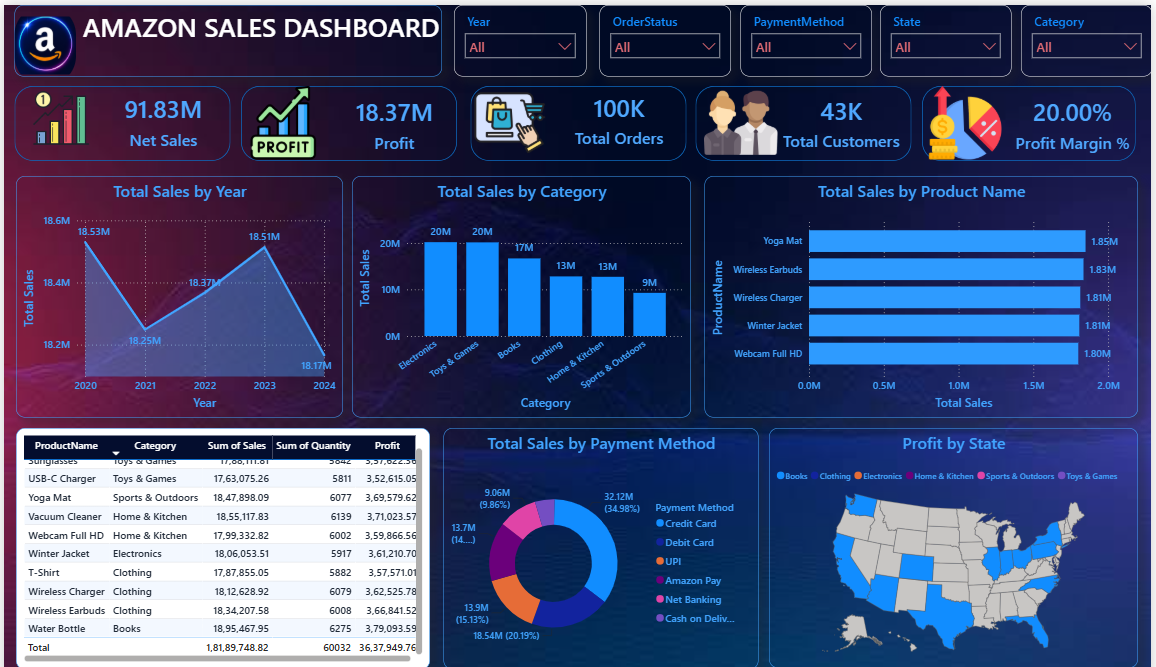

What the dashboard file says about the page in this screenshot:
{"tool":"powerbi","page":{"name":"Amazon Sales Dashboard","canvas":[1530,900],"ordinal":0},"visuals":[{"type":"shape","title":"AMAZON SALES DASHBOARD","box":[14,0,583,95],"z":0,"group":"g1"},{"type":"slicer","fields":{"Values":["DimDate.Year"]},"box":[612,0,170,95],"z":0},{"type":"slicer","fields":{"Values":["DimOrderStatus.OrderStatus"]},"box":[794.5,0,170,95],"z":1000},{"type":"slicer","fields":{"Values":["Products.Category"]},"box":[1342,0,170,95],"z":2000},{"type":"slicer","fields":{"Values":["DimPayment.PaymentMethod"]},"box":[977,0,170,95],"z":3000},{"type":"slicer","fields":{"Values":["Customers.State"]},"box":[1159.5,0,170,95],"z":4000},{"type":"areaChart","title":"Total Sales by Year","fields":{"Category":["DimDate.Year"],"Y":["Orders.Total Sales"]},"box":[16,258,436,322],"z":5000},{"type":"clusteredColumnChart","fields":{"Category":["Products.Category"],"Y":["Orders.Total Sales"]},"box":[476,258,452,322],"z":6000},{"type":"clusteredBarChart","title":"Total Sales by Product Name","fields":{"Category":["Products.ProductName"],"Y":["Orders.Total Sales"]},"box":[952,258,560,322],"z":7000},{"type":"shapeMap","title":"Profit by State","fields":{"Category":["Customers.State"],"Series":["Products.Category"]},"box":[1020,594,492,290],"z":8000},{"type":"tableEx","fields":{"Values":["Products.ProductName","Products.Category","Sum(Orders.Sales)","Sum(Orders.Quantity)","Orders.Profit"]},"box":[16,594,552,292],"z":9000},{"type":"donutChart","title":"Total Sales by Payment Method","fields":{"Category":["DimPayment.PaymentMethod"],"Y":["Orders.Total Sales"]},"box":[584,594,420,292],"z":10000},{"type":"group","id":"g1","title":"Group 7","box":[14,0,583,95],"z":11000},{"type":"cardVisual","fields":{"Data":["Orders.Net Sales","Customers.Net Sales LY","Customers.Net Sales YoY %"]},"box":[16,112,290,132],"z":17000},{"type":"cardVisual","fields":{"Data":["Orders.Total Customers","Customers.Total Customers LY","Customers.Total Customers YoY %"]},"box":[920.5,112,290,132],"z":18000},{"type":"cardVisual","fields":{"Data":["Orders.Profit Margin %","Customers.Profit Margin LY","Customers.Profit Margin YoY Change"]},"box":[1222,112,290,132],"z":19000},{"type":"cardVisual","fields":{"Data":["Orders.Profit","Customers.Profit LY","Customers.Profit YoY %"]},"box":[317.5,112,290,132],"z":20000},{"type":"cardVisual","fields":{"Data":["Orders.Total Orders","Customers.Total Orders LY","Customers.Total Orders YoY %"]},"box":[619,112,290,132],"z":21000}]}

Visuals, with their boxes in screenshot pixels (x1, y1, x2, y2), scaled from the page's 1530x900 canvas onto the 1156x667 screenshot:
"AMAZON SALES DASHBOARD" shape: (11, 0, 451, 70)
slicer - DimDate.Year: (462, 0, 591, 70)
slicer - DimOrderStatus.OrderStatus: (600, 0, 729, 70)
slicer - Products.Category: (1014, 0, 1142, 70)
slicer - DimPayment.PaymentMethod: (738, 0, 867, 70)
slicer - Customers.State: (876, 0, 1005, 70)
"Total Sales by Year" areaChart: (12, 191, 342, 430)
clusteredColumnChart - Products.Category x Orders.Total Sales: (360, 191, 701, 430)
"Total Sales by Product Name" clusteredBarChart: (719, 191, 1142, 430)
"Profit by State" shapeMap: (771, 440, 1142, 655)
tableEx - Products.ProductName x Products.Category: (12, 440, 429, 657)
"Total Sales by Payment Method" donutChart: (441, 440, 759, 657)
"Group 7" group: (11, 0, 451, 70)
cardVisual - Orders.Net Sales x Customers.Net Sales LY: (12, 83, 231, 181)
cardVisual - Orders.Total Customers x Customers.Total Customers LY: (695, 83, 915, 181)
cardVisual - Orders.Profit Margin % x Customers.Profit Margin LY: (923, 83, 1142, 181)
cardVisual - Orders.Profit x Customers.Profit LY: (240, 83, 459, 181)
cardVisual - Orders.Total Orders x Customers.Total Orders LY: (468, 83, 687, 181)
